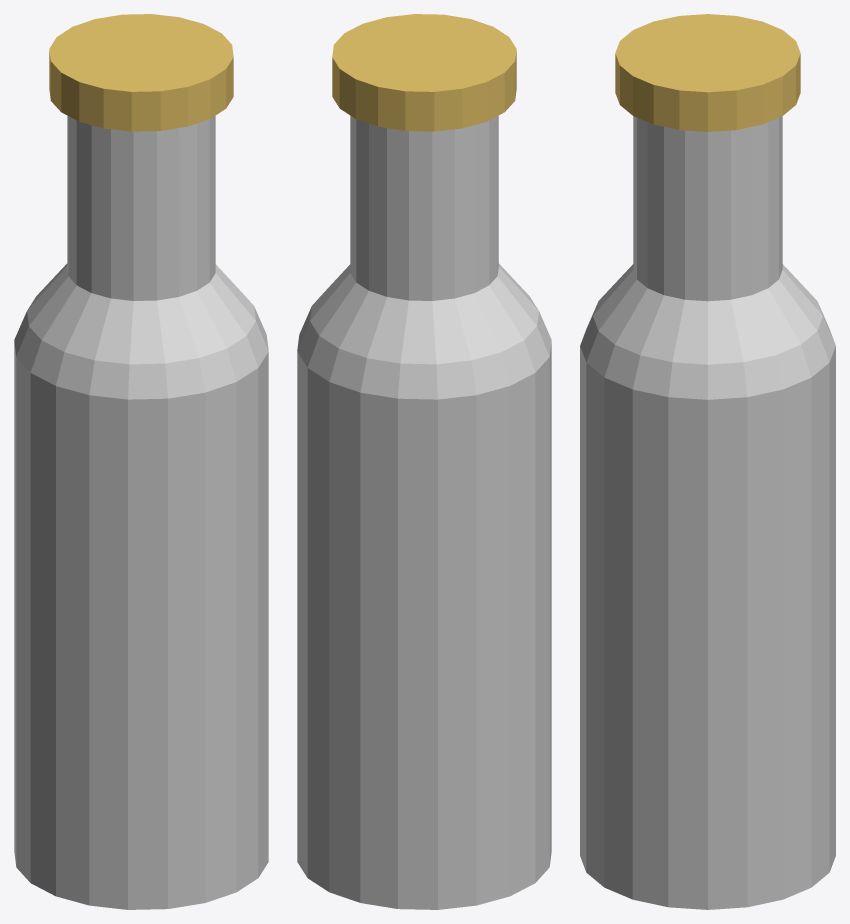
The model's file is Bottle2.fbx.
The picture shows the model from 3 angles, left to right: view 1: azimuth 30°, elevation 25°; view 2: azimuth 150°, elevation 25°; view 3: azimuth 270°, elevation 25°; orthographic projection.
Visible parts, largest first — view 1: Buttle2.002; view 2: Buttle2.002; view 3: Buttle2.002.
Part boxes in pixels (x1,y1,x2,y2): Buttle2.002: [14, 14, 268, 909]; Buttle2.002: [297, 14, 551, 909]; Buttle2.002: [580, 14, 835, 909].
Size of the model in its own units: 337 by 1167 by 337.
